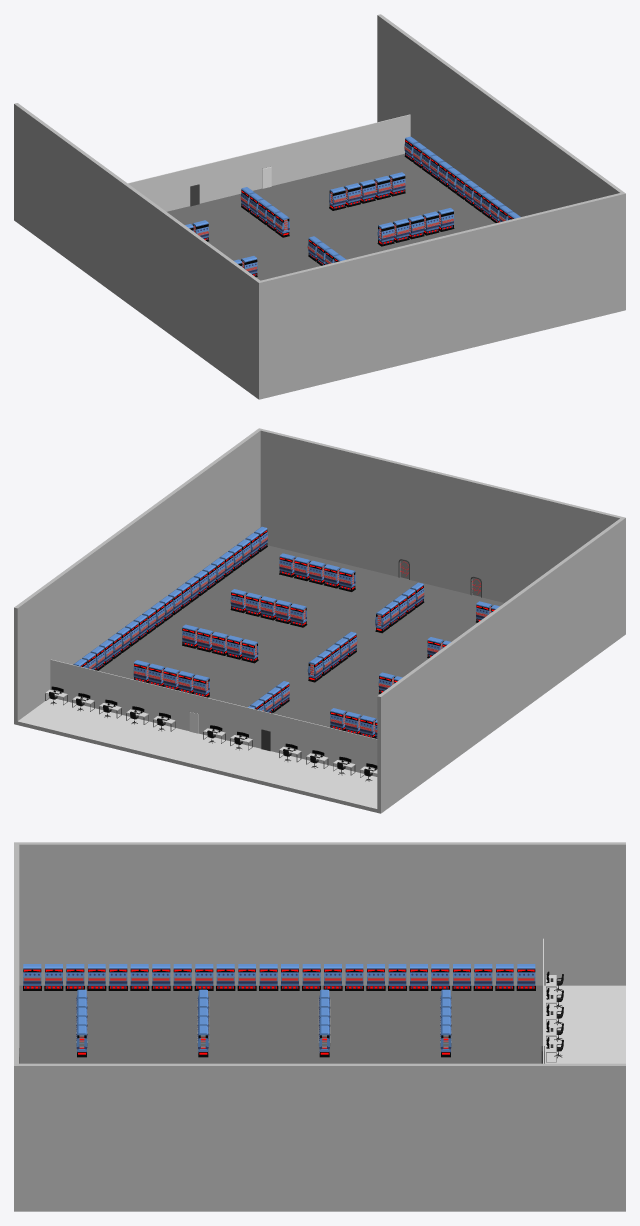
Rendered from pokoj_serwerownia_alarm_kopia.fbx.
3 views of the same model, one above another, from view 1: azimuth 30°, elevation 25°; view 2: azimuth 150°, elevation 25°; view 3: azimuth 270°, elevation 25° (orthographic). The views are drawn at different scales.
Visible parts, largest first — view 1: Pokoj, serwery; view 2: Pokoj, serwery, Plane.002, Basic Office Chair.002, Komputery; view 3: Pokoj, serwery, Plane.002.
Part boxes in pixels (x1,y1,x2,y2): Pokoj: [14, 14, 625, 399]; serwery: [185, 136, 520, 277]; Pokoj: [14, 428, 625, 813]; serwery: [73, 526, 499, 738]; Plane.002: [45, 689, 377, 777]; Basic Office Chair.002: [49, 692, 372, 781]; Komputery: [51, 686, 377, 771]; Pokoj: [14, 842, 625, 1211]; serwery: [23, 964, 535, 1057]; Plane.002: [546, 975, 556, 1062].
Bounding box in the file's own units: 5100 × 1550 × 5900.
Materials: 20 (1 with a texture image).
